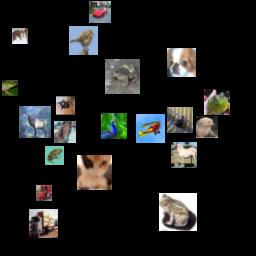airplane: (136, 114, 165, 143)
automobile: (89, 1, 111, 23)
bird: (69, 26, 98, 55), (101, 113, 127, 139)
cat: (77, 155, 112, 190), (167, 107, 193, 133), (56, 96, 75, 115), (12, 28, 28, 44)
deer: (19, 106, 51, 138)
dog: (167, 48, 196, 77), (196, 116, 218, 138)
frog: (159, 193, 197, 231), (105, 59, 140, 94), (204, 89, 230, 115), (45, 146, 64, 165), (2, 80, 18, 96)
truck: (29, 209, 58, 238), (36, 185, 52, 201)
